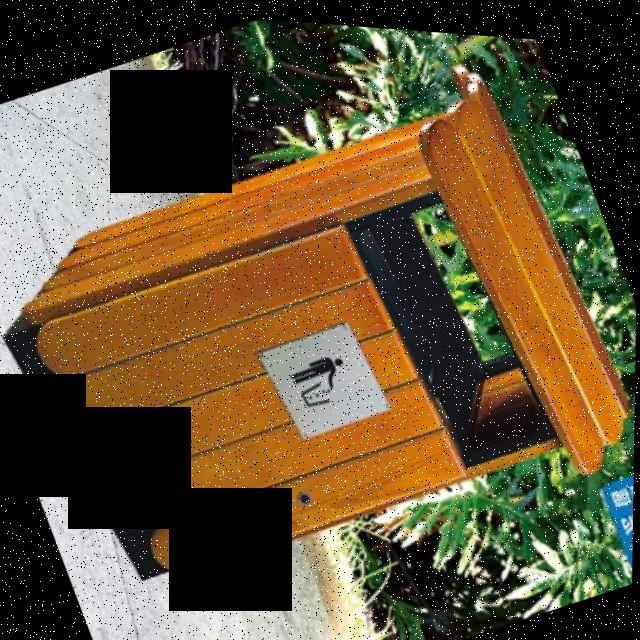bin: (0, 23, 640, 640)
